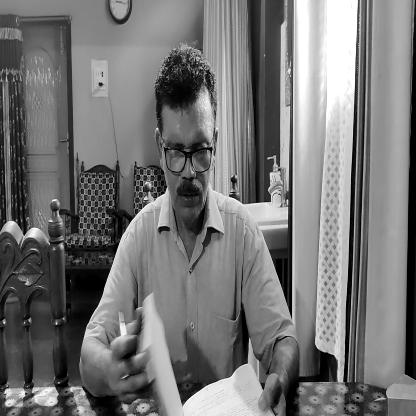Normal: (154, 50, 217, 224)
